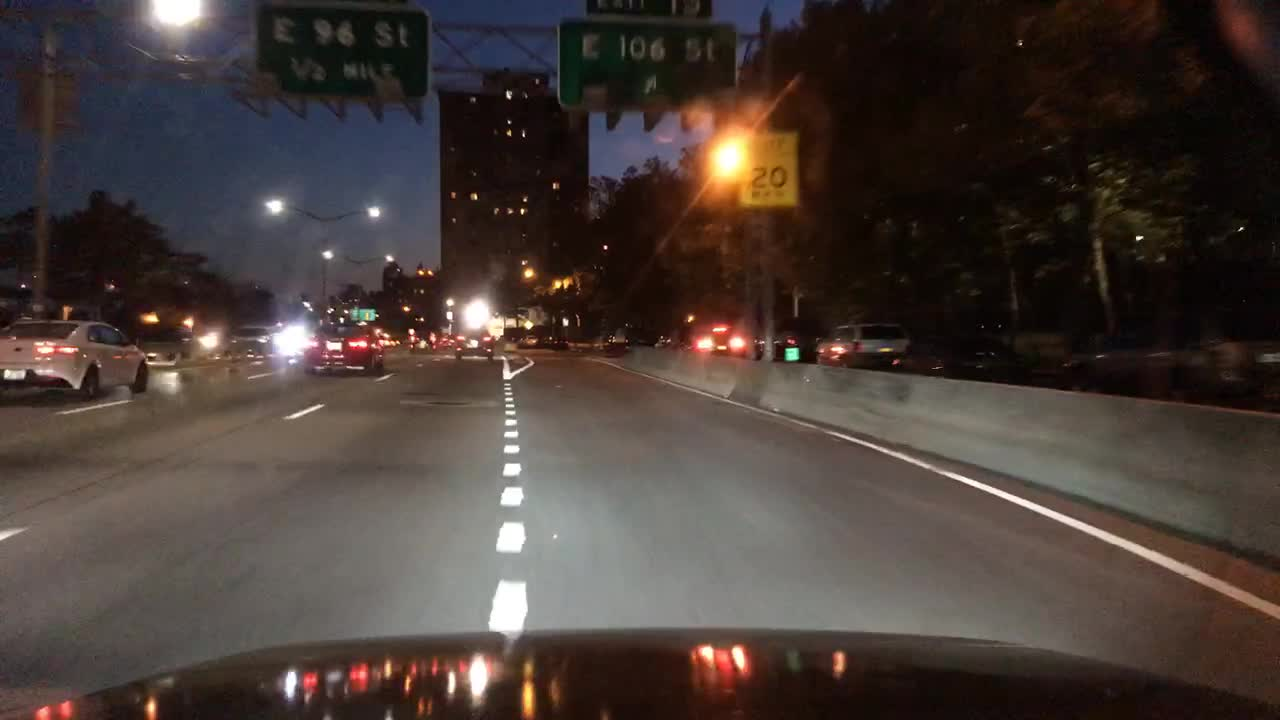car: (1062, 300, 1279, 411), (0, 319, 149, 402), (813, 318, 910, 368), (303, 321, 385, 379), (940, 338, 1039, 380), (695, 321, 746, 358), (140, 323, 199, 354), (228, 324, 273, 361), (454, 328, 493, 363), (757, 331, 801, 361), (409, 330, 438, 349), (546, 333, 570, 349), (658, 333, 679, 351), (378, 330, 399, 348), (200, 330, 218, 350), (523, 333, 541, 349), (440, 331, 452, 348), (607, 334, 626, 344)
traffic sign: (560, 1, 733, 101), (258, 2, 424, 95), (742, 131, 797, 206), (350, 310, 374, 320)
